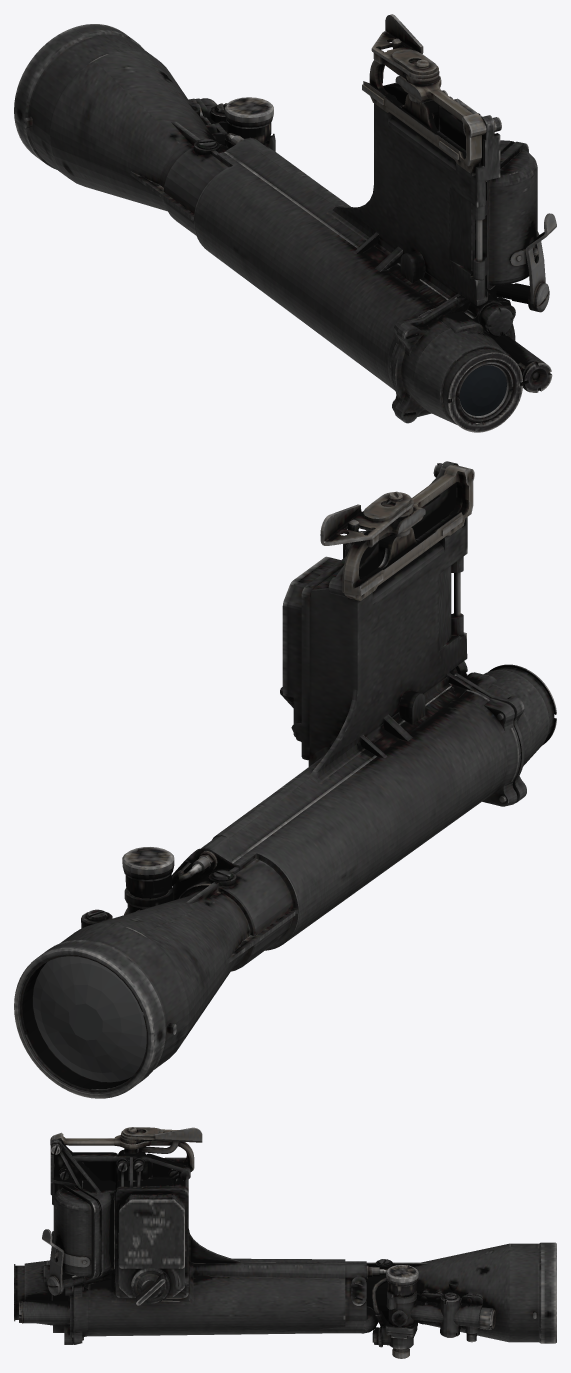
3 views of the same model, one above another, from view 1: azimuth 30°, elevation 25°; view 2: azimuth 150°, elevation 25°; view 3: azimuth 270°, elevation 25° (orthographic). The views are drawn at different scales.
Visible parts, largest first — view 1: TW_5a7c74b3e899ef0014332c29_PZ_Import; view 2: TW_5a7c74b3e899ef0014332c29_PZ_Import; view 3: TW_5a7c74b3e899ef0014332c29_PZ_Import.
Part boxes in pixels (x1=…): TW_5a7c74b3e899ef0014332c29_PZ_Import: x1=14, y1=14, x2=556, y2=432; TW_5a7c74b3e899ef0014332c29_PZ_Import: x1=14, y1=461, x2=556, y2=1098; TW_5a7c74b3e899ef0014332c29_PZ_Import: x1=14, y1=1127, x2=556, y2=1358.
Size of the model in its own units: 0.0528 by 0.209 by 0.0952.
Materials: 1 (1 with a texture image).
